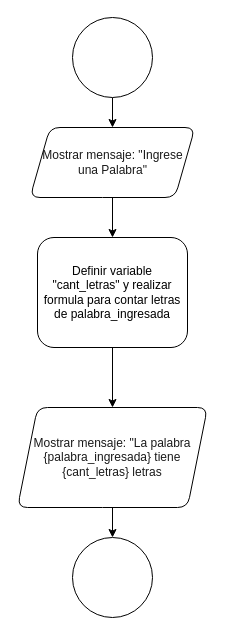
This 225x635 diagram has some shape labels left out. Each missing label, with the box of its shape:
Fin: (72, 536, 152, 618)
Inicio: (72, 16, 152, 98)
